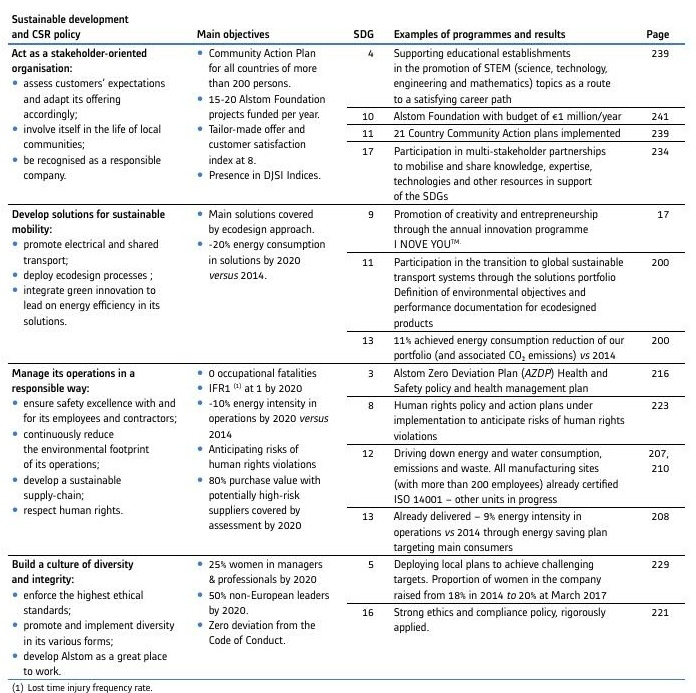table: (0, 0, 696, 693)
